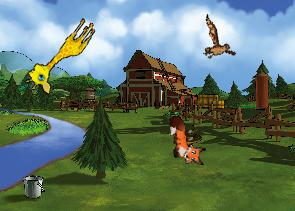eagle: (186, 14, 245, 70)
fox: (167, 113, 207, 168)
giraffe: (21, 9, 99, 99)
